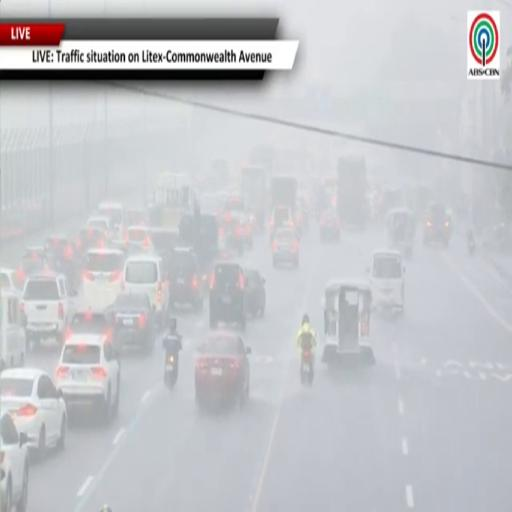car: (0, 368, 67, 457), (56, 334, 120, 423), (195, 331, 250, 408), (20, 274, 77, 344), (123, 253, 169, 326), (108, 293, 157, 353), (0, 410, 29, 511), (209, 262, 247, 330), (83, 249, 125, 310), (168, 248, 204, 311), (369, 249, 404, 313), (0, 288, 26, 372), (45, 235, 80, 287), (66, 310, 112, 340), (17, 247, 49, 289), (423, 203, 451, 247), (198, 212, 218, 269), (272, 227, 299, 268), (219, 213, 245, 255), (244, 268, 266, 317), (98, 201, 125, 238), (149, 228, 180, 259), (75, 227, 108, 255), (270, 206, 294, 241), (232, 212, 253, 248), (319, 211, 340, 242), (127, 226, 152, 251), (86, 215, 113, 237), (125, 207, 148, 226), (0, 268, 17, 289), (225, 195, 245, 212)
motorcycle: (163, 319, 181, 389), (300, 347, 314, 386), (467, 231, 476, 256)
truck: (336, 155, 368, 229), (241, 165, 267, 230), (271, 175, 298, 214)
